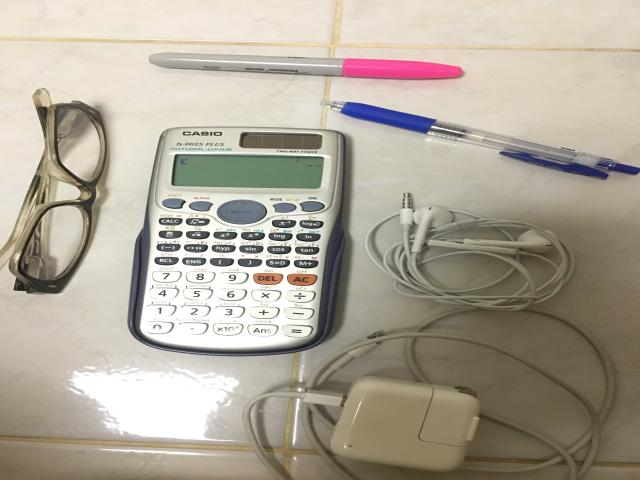Glasses: (0, 88, 108, 293)
Pen: (322, 100, 640, 179), (148, 52, 462, 79)
wire: (242, 308, 617, 480), (363, 193, 575, 311)
